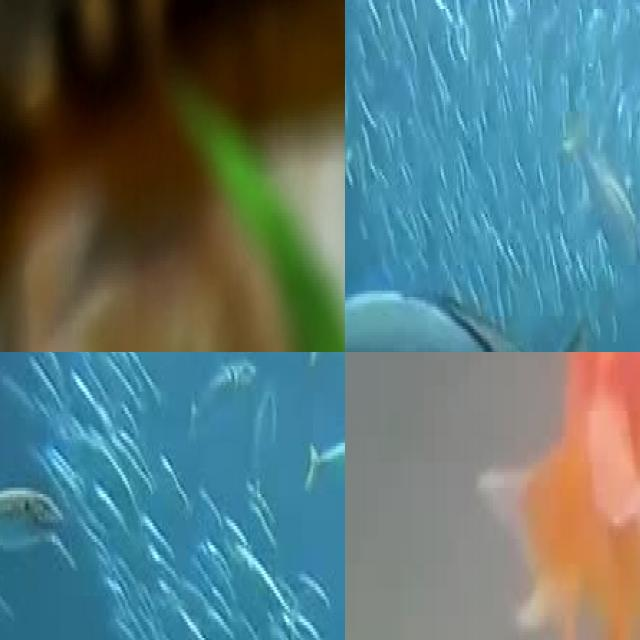fish: (0, 0, 345, 352), (345, 252, 604, 352)
